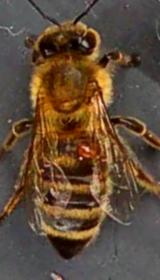varroa_mite: (68, 138, 102, 160)
